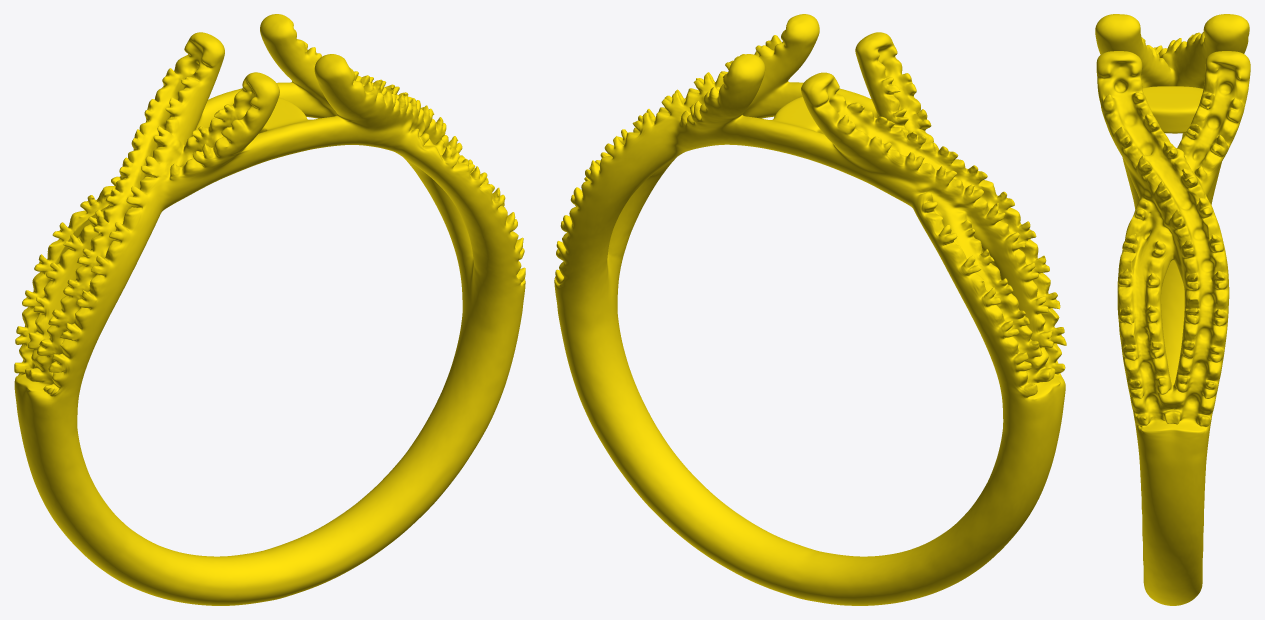
Rendered from Shank_Twist_French Pave_A_No, Hidden Halo_Band.glb.
3 views of the same model, side by side, from view 1: azimuth 30°, elevation 25°; view 2: azimuth 150°, elevation 25°; view 3: azimuth 270°, elevation 25° (orthographic).
Bounding box in the file's own units: 0.0213 × 0.0227 × 0.00588.
